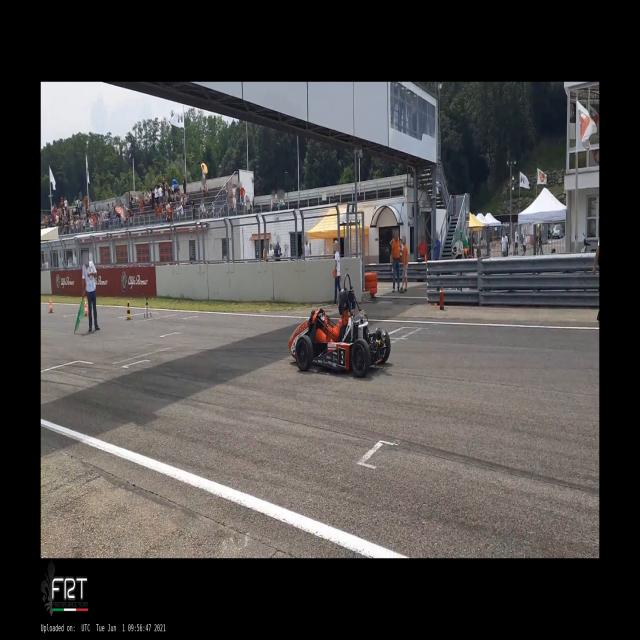large_orange_cone: (49, 297, 54, 313), (85, 298, 88, 316)
unknown_cone: (125, 300, 133, 320)
